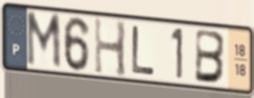1: (169, 26, 186, 83)
6: (62, 15, 93, 74)
B: (193, 27, 228, 86)
H: (92, 15, 129, 80)
L: (131, 24, 157, 77)
M: (25, 10, 63, 72)
